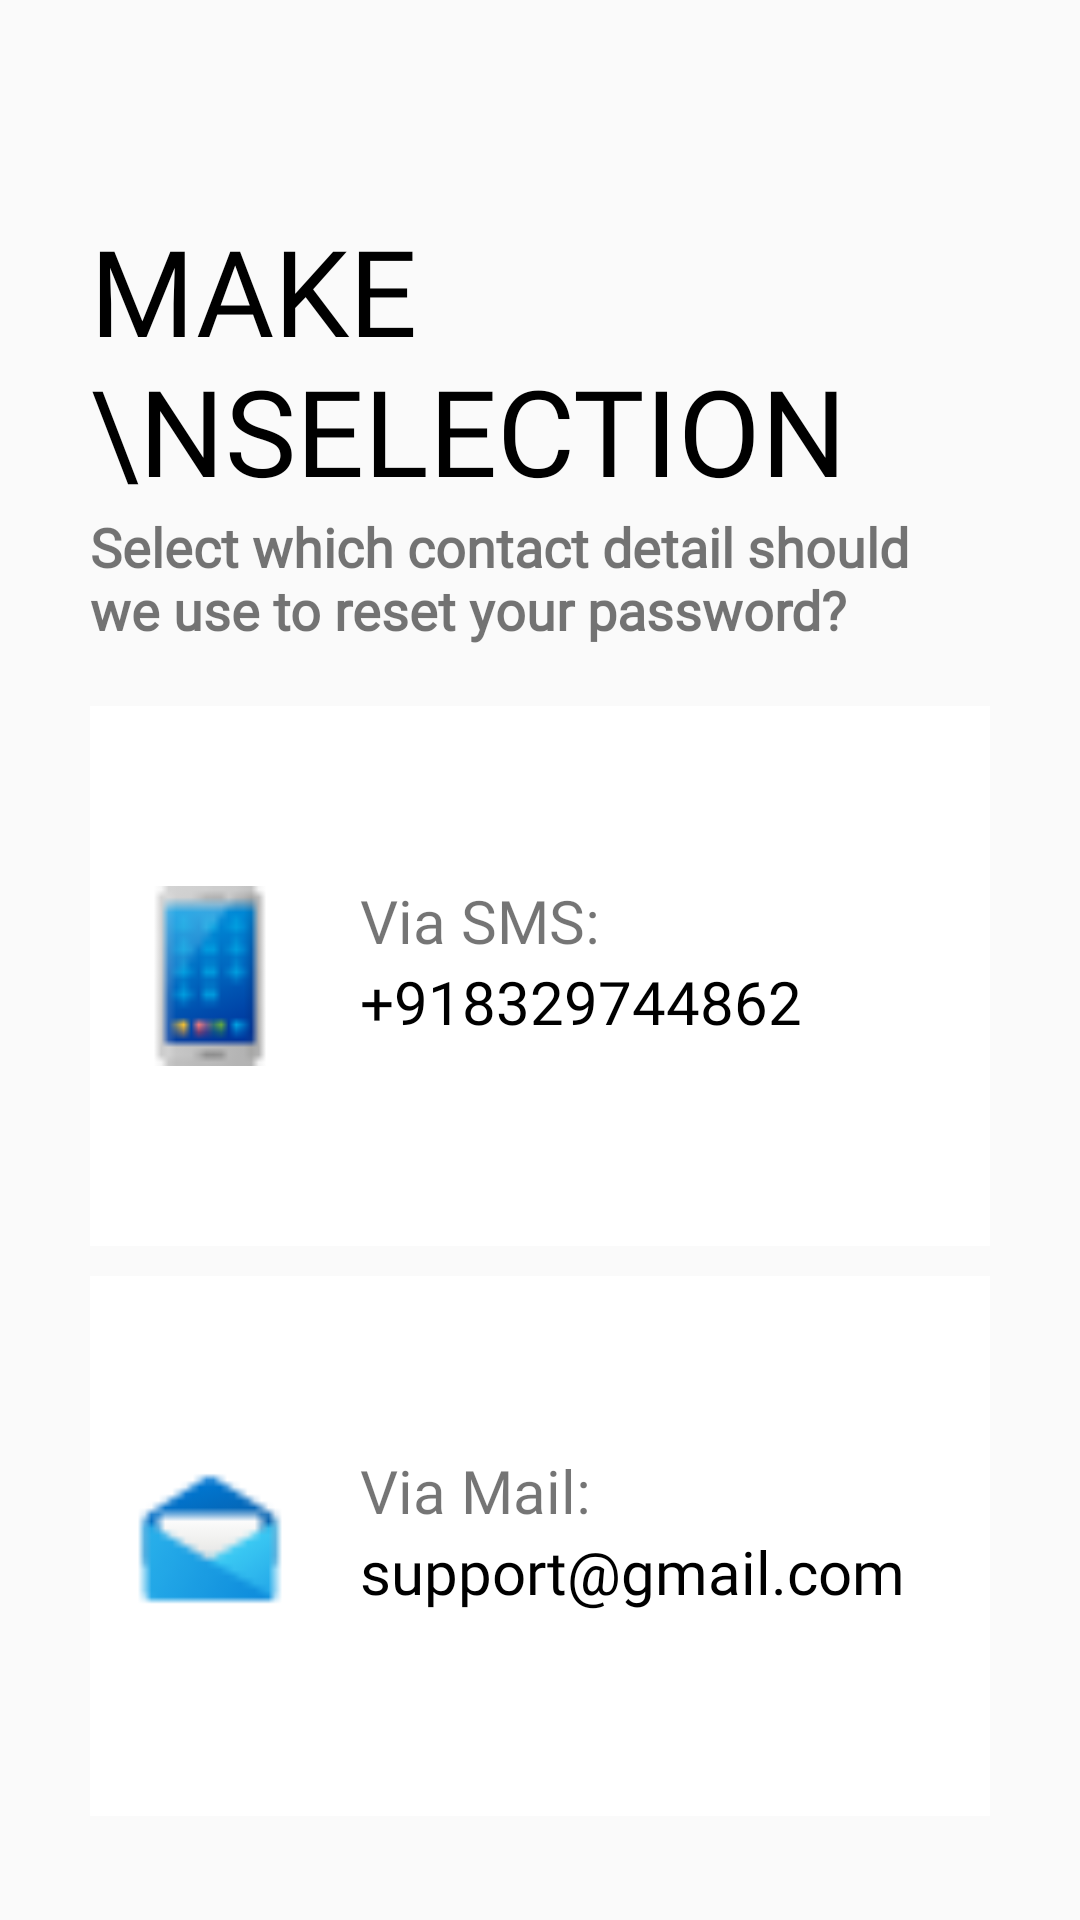

Screen size 1080w x 1920h. Icon name, then its center in pixels as (x,y):
general email: (210,1538)
general mobile: (210,976)
